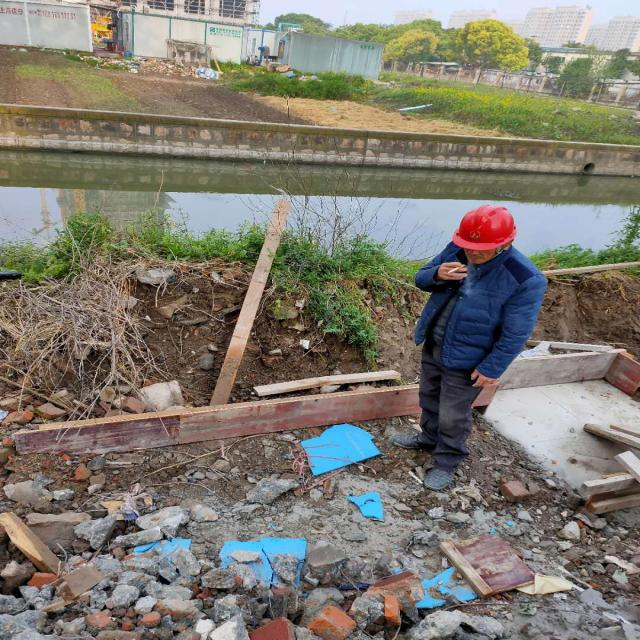smoke: (444, 261, 468, 277)
